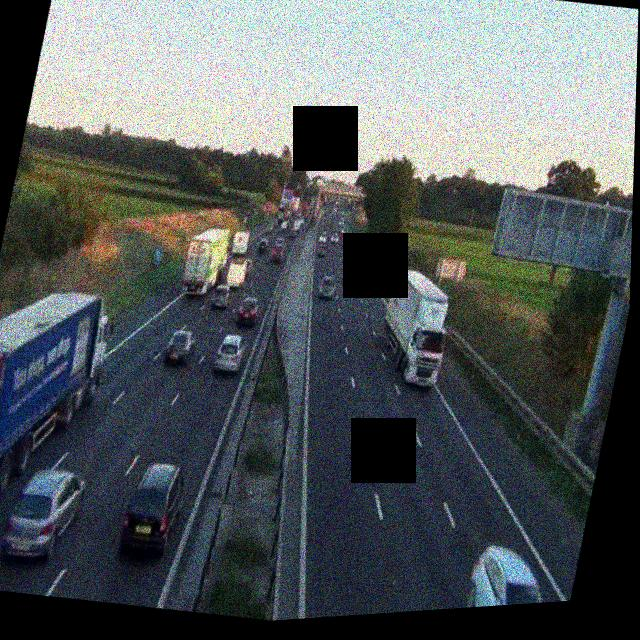car: (0, 460, 87, 569), (459, 537, 576, 608), (117, 457, 190, 562), (162, 324, 199, 367), (212, 331, 246, 376), (234, 294, 261, 329), (208, 282, 231, 310), (316, 273, 337, 301), (359, 267, 376, 286), (269, 245, 284, 266), (338, 264, 352, 282), (254, 236, 267, 254), (315, 240, 328, 258)
truck: (0, 276, 119, 513), (371, 261, 459, 393), (177, 222, 232, 299), (220, 247, 250, 294), (229, 226, 253, 261), (288, 195, 301, 216)
